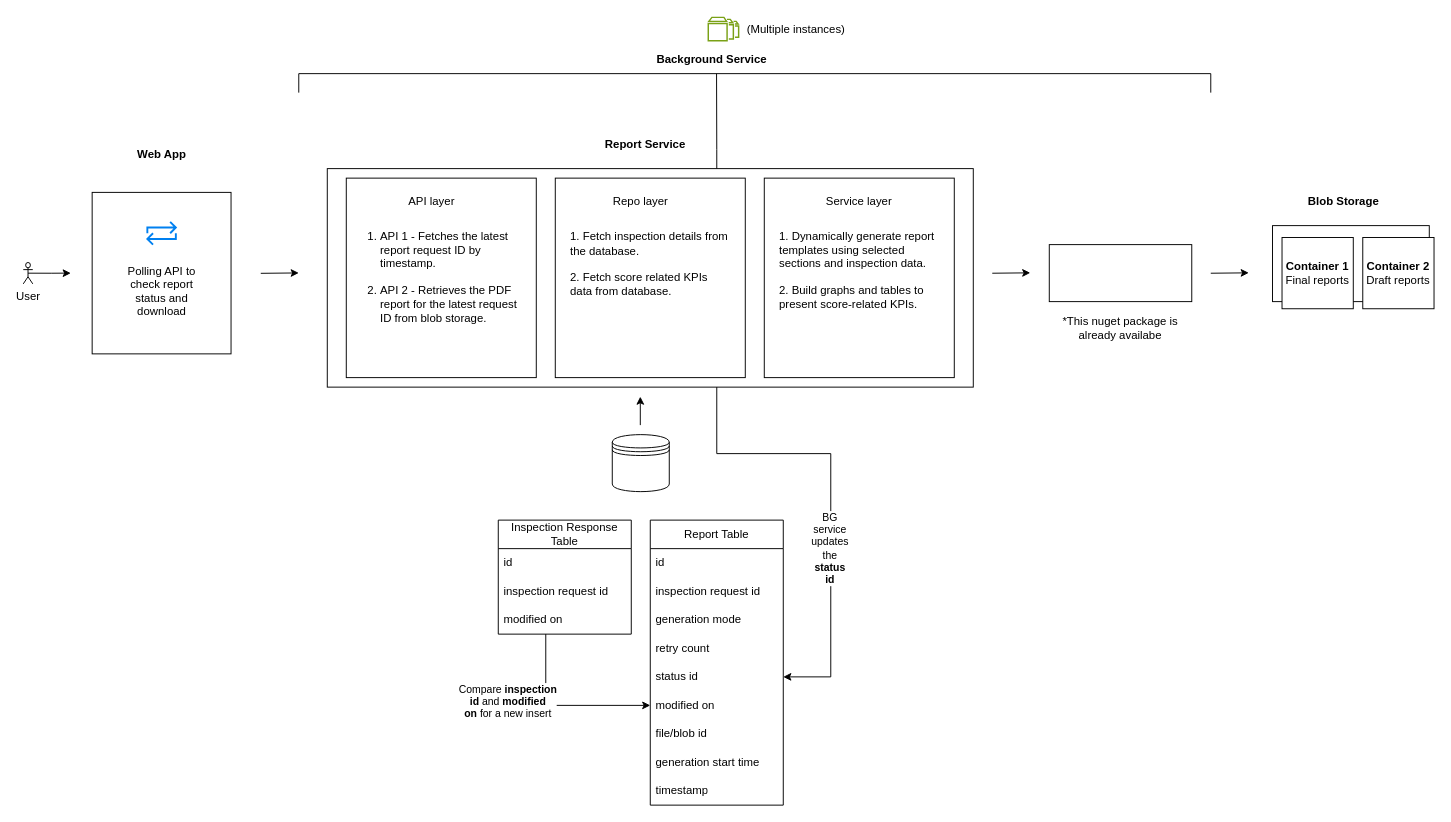
Some shapes in this 1451 by 822 pixel diagram are drawn without their labels. The centre of each missing label's shape, as x and y in pixels:
"A&I DB" belongs at (640,463).
"SNR Document Generator" belongs at (1120,273).
